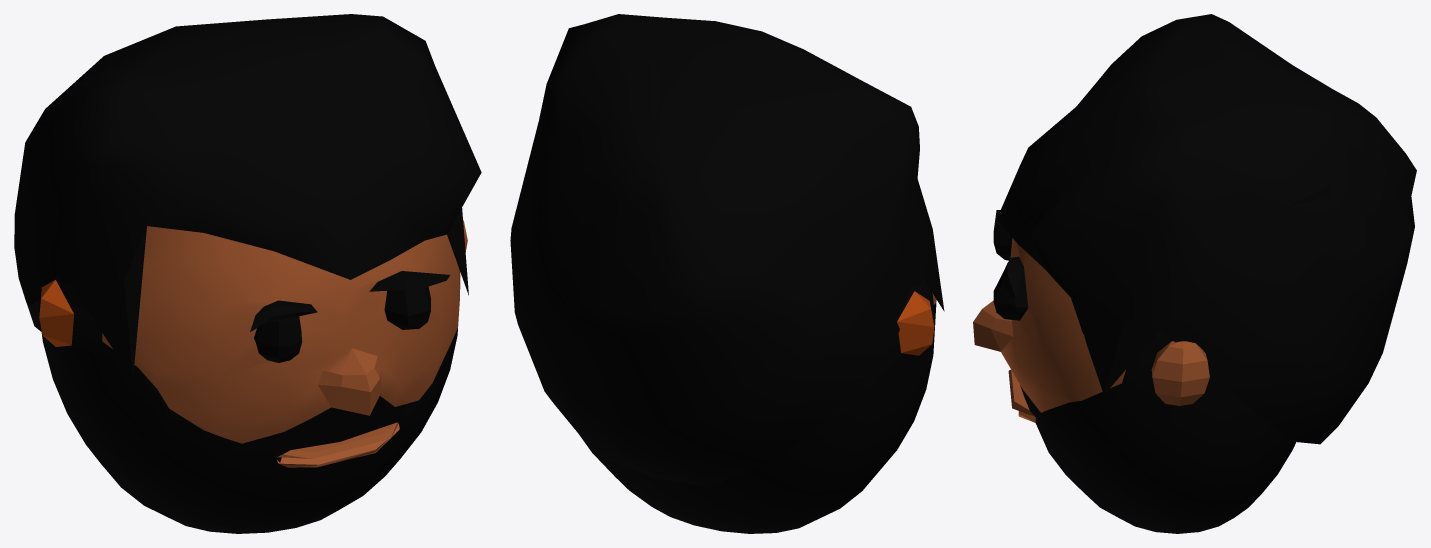
File: SairajHeadHappy.fbx
3 renders of one model, left to right at view 1: azimuth 30°, elevation 25°; view 2: azimuth 150°, elevation 25°; view 3: azimuth 270°, elevation 25°, orthographic. The views are drawn at different scales.
Visible parts, largest first — view 1: Sairaj; view 2: Sairaj; view 3: Sairaj.
Boxes of the visible parts, bbox=[...] form: Sairaj: bbox=[14, 14, 481, 533]; Sairaj: bbox=[510, 14, 944, 533]; Sairaj: bbox=[973, 14, 1416, 533].
Bounding box in the file's own units: 1.74 × 1.81 × 1.71.
